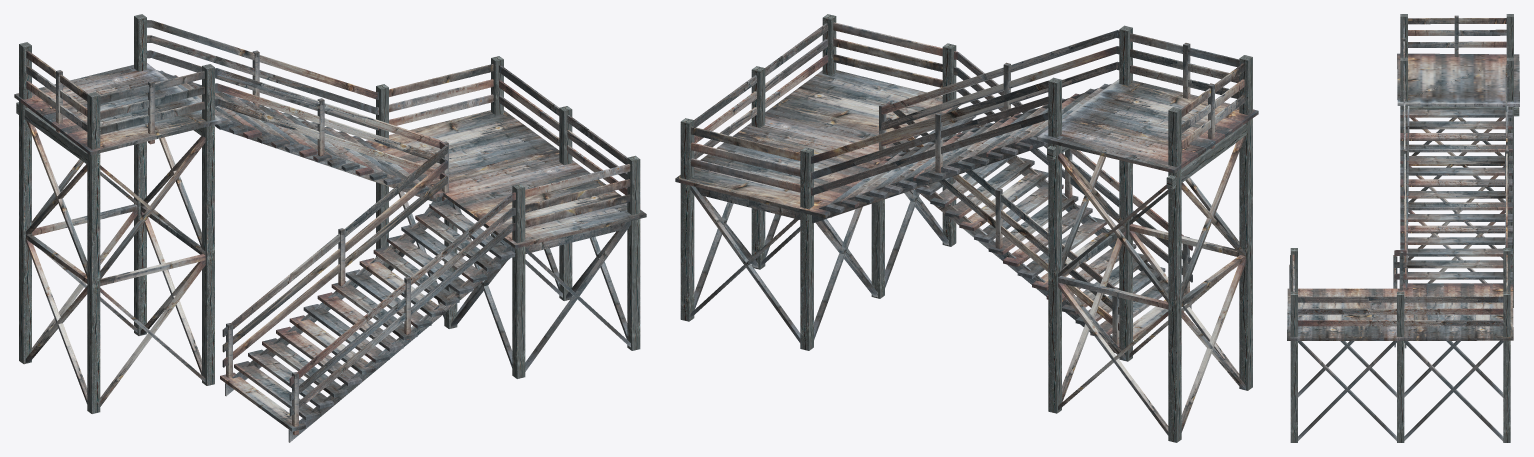
Rendered from WoodOverpassStairs.FBX.
The picture shows the model from 3 angles, left to right: view 1: azimuth 30°, elevation 25°; view 2: azimuth 150°, elevation 25°; view 3: azimuth 270°, elevation 25°; orthographic projection. The views are drawn at different scales.
Visible parts, largest first — view 1: WoodOverpassStairs; view 2: WoodOverpassStairs; view 3: WoodOverpassStairs.
Boxes of the visible parts, left/top/right/bottom form: WoodOverpassStairs: left=14, top=14, right=646, bottom=442; WoodOverpassStairs: left=675, top=14, right=1258, bottom=442; WoodOverpassStairs: left=1287, top=14, right=1519, bottom=442.
Size of the model in its own units: 117 by 74.88 by 62.19.
